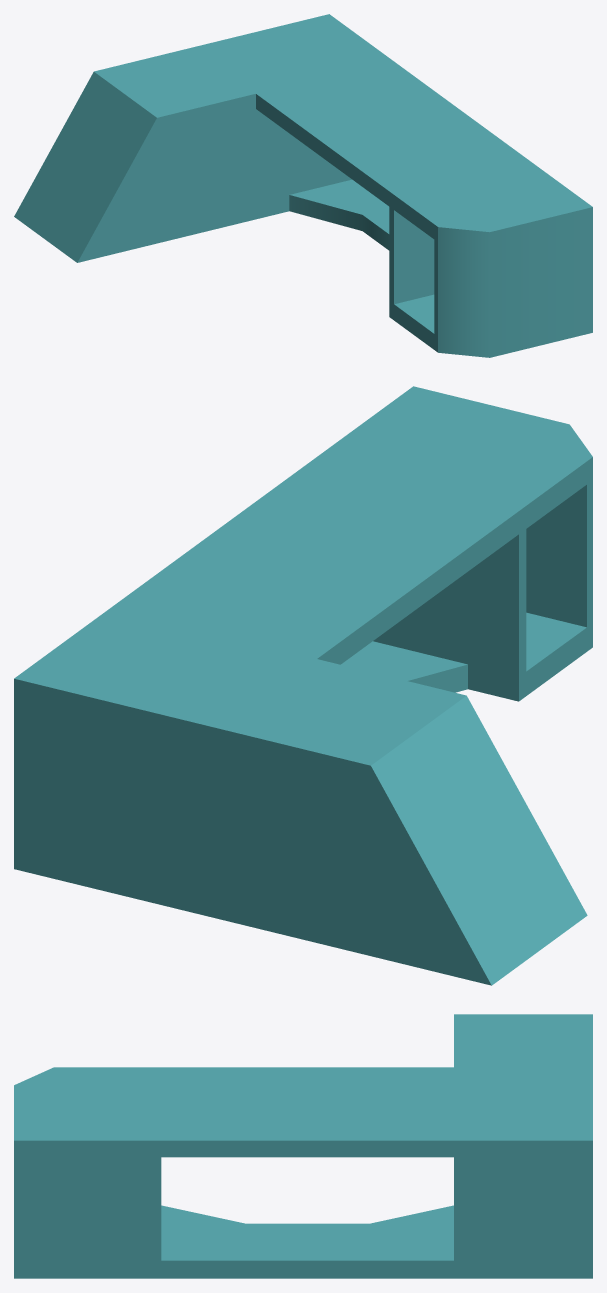
File: WorkDesk.fbx
3 views of the same model, one above another, from view 1: azimuth 30°, elevation 25°; view 2: azimuth 150°, elevation 25°; view 3: azimuth 270°, elevation 25° (orthographic). The views are drawn at different scales.
Parts seen in each view (by area): view 1: pCube43; view 2: pCube43; view 3: pCube43.
Boxes of the visible parts, box(x1,y1,x2,y2) form: pCube43: box(14, 14, 592, 357); pCube43: box(14, 386, 592, 985); pCube43: box(14, 1014, 592, 1278).
Bounding box in the file's own units: 231 × 87.89 × 334.
